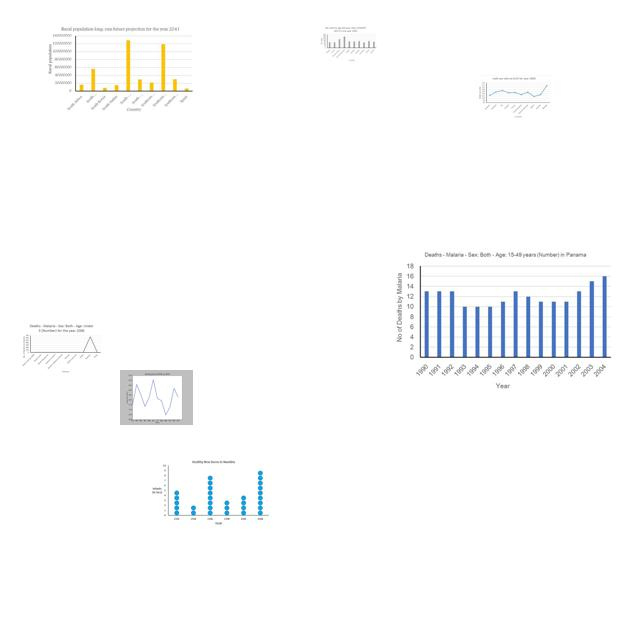Graph: (392, 248, 614, 393), (46, 24, 195, 112), (148, 456, 272, 529), (21, 323, 103, 374), (120, 370, 193, 425), (476, 75, 552, 120), (319, 25, 377, 62)
